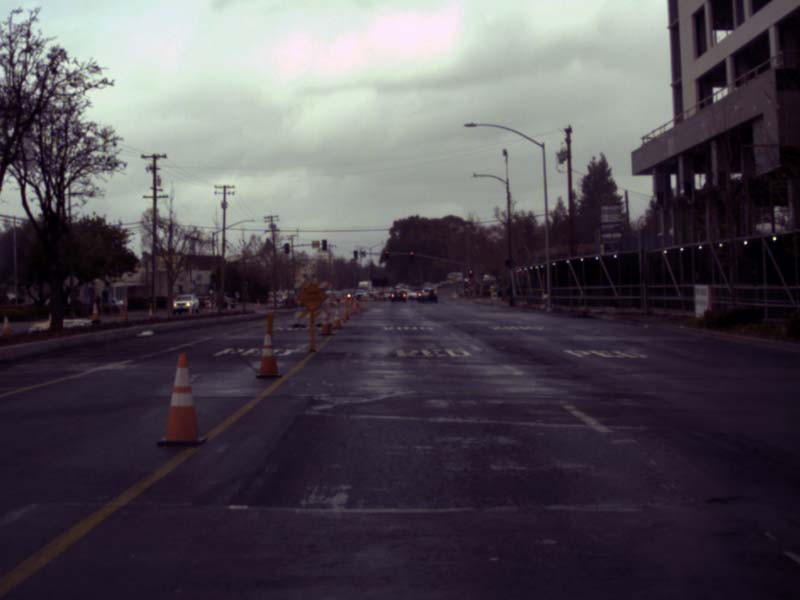Green: (354, 250, 356, 259)
Red: (385, 250, 388, 259), (410, 251, 413, 259), (469, 270, 471, 277)
